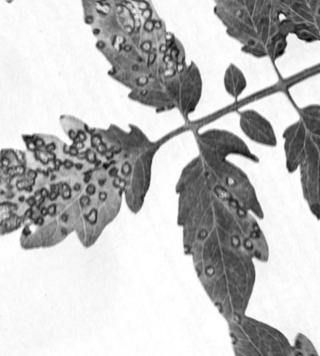Tomato Septoria leaf spot: (130, 117, 310, 329), (0, 84, 179, 281), (88, 0, 215, 142), (261, 96, 320, 274), (194, 0, 296, 75)
